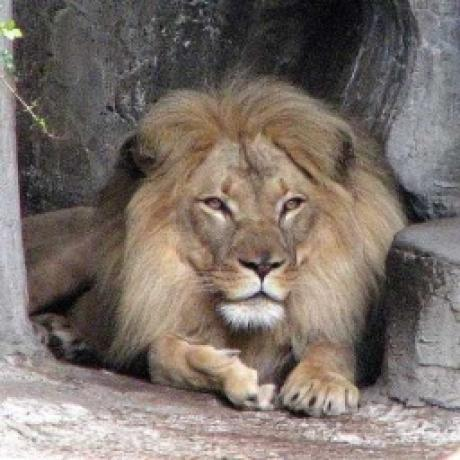Lion: (24, 74, 399, 422)
